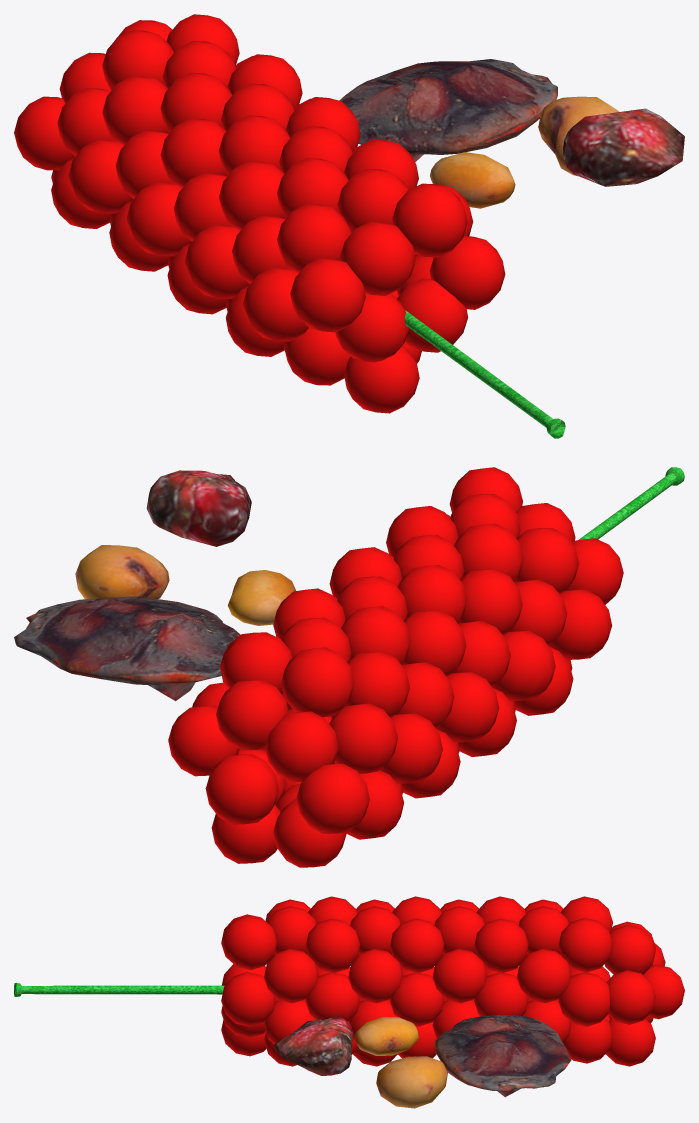
File: wuweizi.FBX
3 renders of one model, top to bottom at view 1: azimuth 30°, elevation 25°; view 2: azimuth 150°, elevation 25°; view 3: azimuth 270°, elevation 25°, orthographic. The views are drawn at different scales.
Visible parts, largest first — view 1: Line001, Sphere001, Sphere066, Sphere073, Sphere068, Sphere072, Sphere063, Sphere061, Sphere067, Sphere064, Sphere036, Sphere022 (+31 smaller); view 2: Line001, Sphere001, Sphere002, Sphere007, Sphere006, Sphere011, Sphere004, Sphere005, Sphere015, Sphere010, Sphere064, Sphere022 (+31 smaller); view 3: Line001, Sphere001, Sphere002, Sphere073, Sphere017, Sphere070, Sphere045, Sphere028, Sphere031, Sphere056, Sphere042, Sphere059 (+29 smaller).
Boxes of the visible parts, bbox=[...] form: Line001: bbox=[339, 59, 557, 162]; Sphere001: bbox=[563, 108, 684, 186]; Sphere066: bbox=[290, 258, 365, 332]; Sphere073: bbox=[392, 183, 467, 257]; Sphere068: bbox=[340, 221, 415, 295]; Sphere072: bbox=[429, 236, 505, 309]; Sphere063: bbox=[344, 346, 419, 413]; Sphere061: bbox=[277, 204, 350, 272]; Sphere067: bbox=[335, 293, 409, 362]; Sphere064: bbox=[243, 267, 308, 341]; Sphere036: bbox=[126, 182, 191, 256]; Sphere022: bbox=[68, 139, 133, 213]; Line001: bbox=[14, 596, 240, 701]; Sphere001: bbox=[146, 470, 251, 546]; Sphere002: bbox=[75, 545, 169, 599]; Sphere007: bbox=[205, 754, 279, 824]; Sphere006: bbox=[296, 763, 369, 833]; Sphere011: bbox=[281, 647, 354, 717]; Sphere004: bbox=[265, 711, 338, 782]; Sphere005: bbox=[216, 680, 288, 750]; Sphere015: bbox=[329, 703, 397, 773]; Sphere010: bbox=[168, 705, 239, 776]; Sphere064: bbox=[549, 589, 612, 659]; Sphere022: bbox=[380, 713, 442, 783]; Line001: bbox=[434, 1015, 571, 1097]; Sphere001: bbox=[274, 1016, 352, 1075]; Sphere002: bbox=[376, 1056, 447, 1108]; Sphere073: bbox=[222, 915, 276, 970]; Sphere017: bbox=[558, 918, 612, 972]; Sphere070: bbox=[264, 948, 318, 1003]; Sphere045: bbox=[389, 918, 444, 972]; Sphere028: bbox=[516, 949, 571, 1003]; Sphere031: bbox=[474, 918, 528, 972]; Sphere056: bbox=[348, 948, 402, 1003]; Sphere042: bbox=[432, 948, 487, 1003]; Sphere059: bbox=[305, 918, 360, 972].
Bounding box in the file's own units: 53.2 × 23.42 × 92.83.
1 material, 1 textured.
